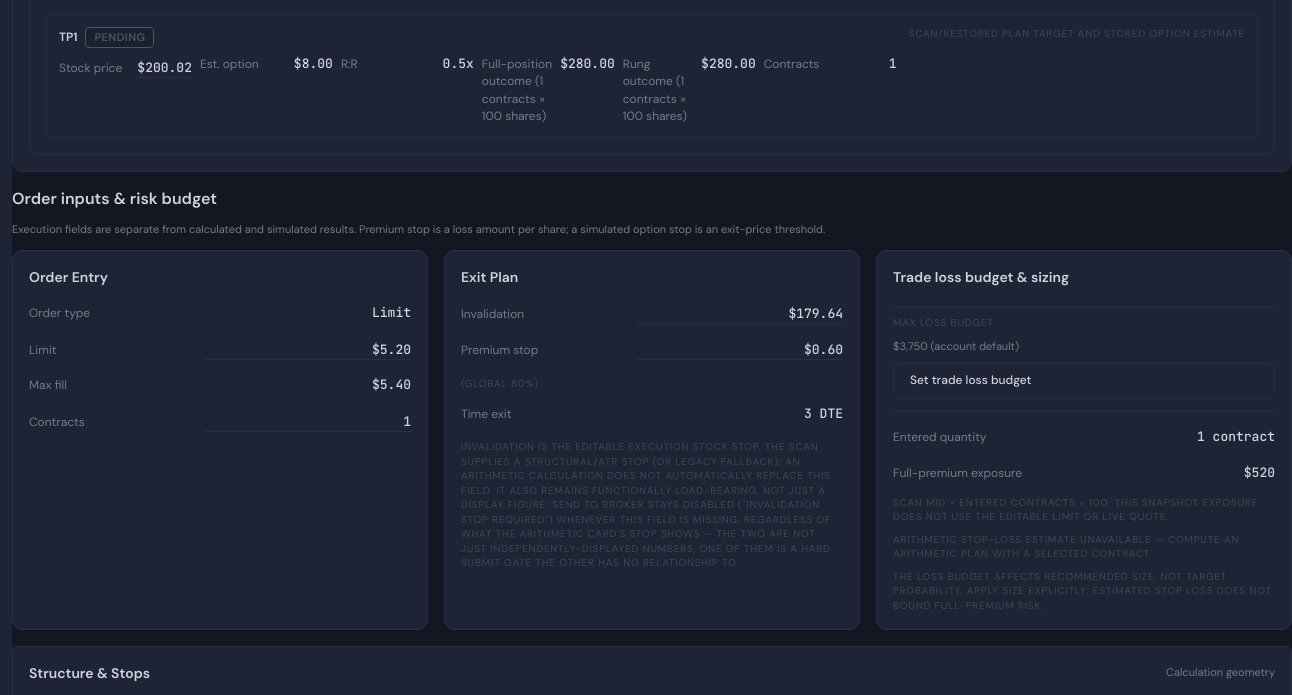
Test: P2-19 -- the untouched Premium stop follows the live mid, not the stale scan seed › a typed value wins over the live-mid display
(page scrolled)
Click the button named "Edit Premium stop" at (740, 349), box [637,338,843,360]
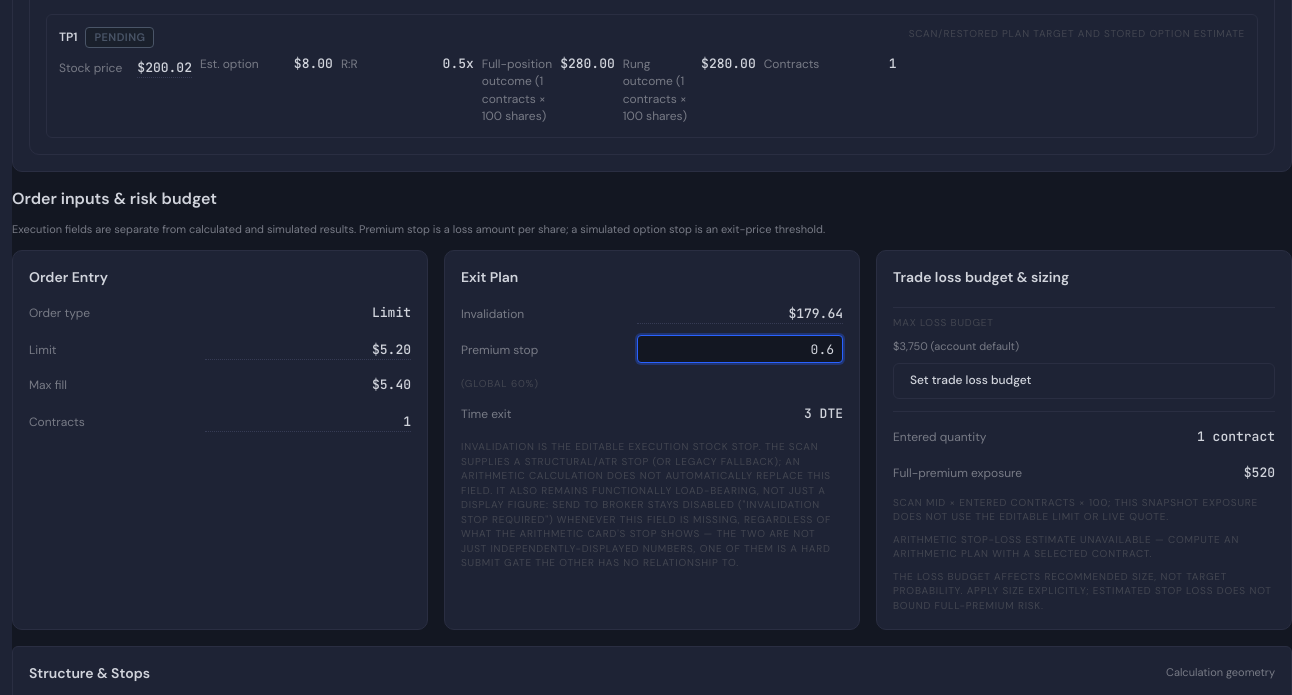
Replace the text in the field named "Edit Premium stop" with "0.45" at (740, 349), box [637,335,843,363]
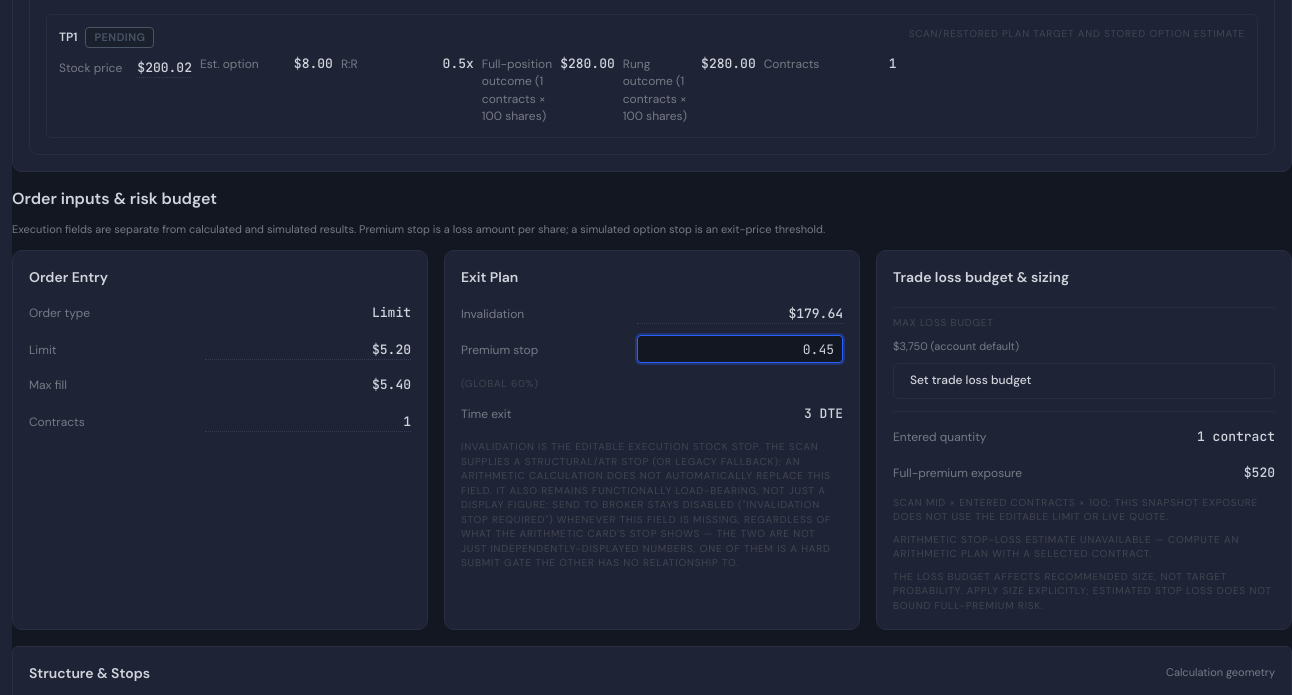
Leave the field named "Edit Premium stop", box [637,335,843,363]
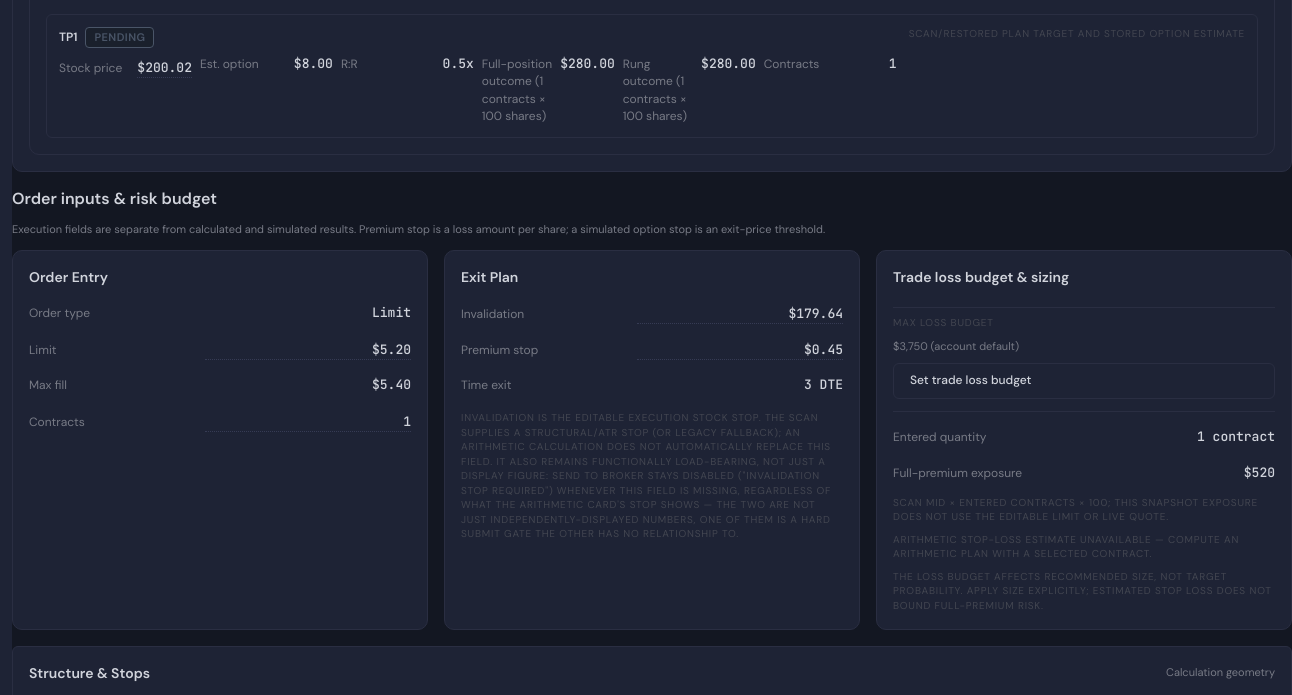
Now the button named "Edit Premium stop" reads "$0.45", box [637,338,843,360]
Now the text "(global 60%)" is gone
